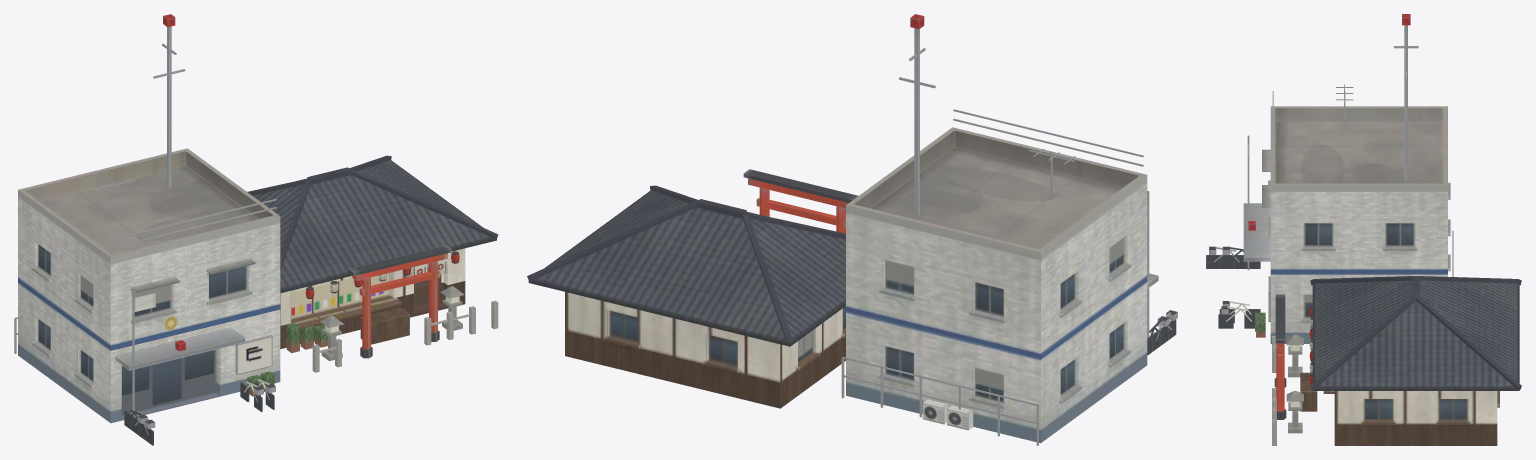
Rendered from tokyo_lowrise_d.glb.
3 renders of one model, left to right at view 1: azimuth 30°, elevation 25°; view 2: azimuth 150°, elevation 25°; view 3: azimuth 270°, elevation 25°, orthographic. The views are drawn at different scales.
Visible parts, largest first — view 1: tokyo_lowrise_d; view 2: tokyo_lowrise_d; view 3: tokyo_lowrise_d.
Part boxes in pixels (<box>): tokyo_lowrise_d: <box>14,14,498,445</box>; tokyo_lowrise_d: <box>527,14,1177,445</box>; tokyo_lowrise_d: <box>1206,14,1521,445</box>.
Size of the model in its own units: 18.5 by 13.85 by 12.81.
Materials: 1 (1 with a texture image).
